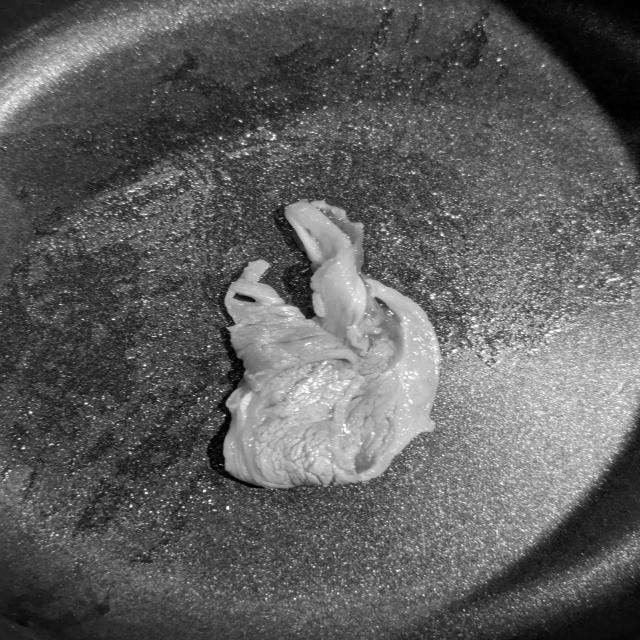NG undercooked beef,: (201, 194, 453, 500)
